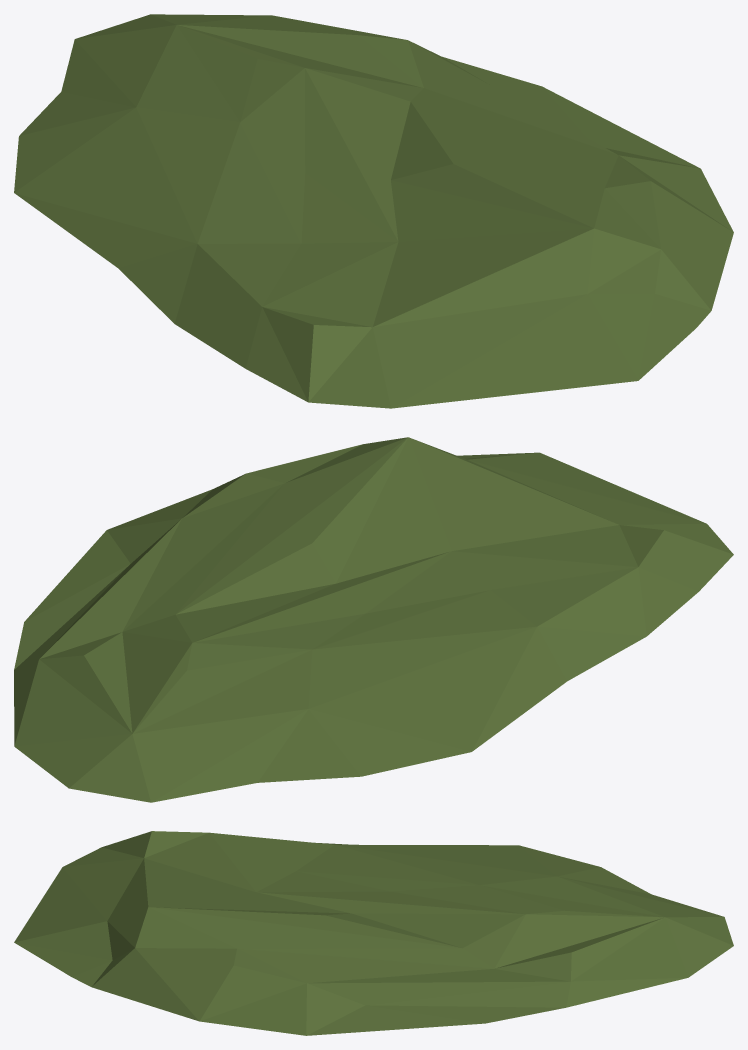
The model's file is SM_Env_GrassPatch_02.glb.
The picture shows the model from 3 angles, top to bottom: view 1: azimuth 30°, elevation 25°; view 2: azimuth 150°, elevation 25°; view 3: azimuth 270°, elevation 25°; orthographic projection. The views are drawn at different scales.
Parts seen in each view (by area): view 1: SM_Env_GrassPatch_02_part00; view 2: SM_Env_GrassPatch_02_part00; view 3: SM_Env_GrassPatch_02_part00.
Part boxes in pixels (x1,y1,x2,y2): SM_Env_GrassPatch_02_part00: [14, 14, 733, 408]; SM_Env_GrassPatch_02_part00: [14, 437, 733, 802]; SM_Env_GrassPatch_02_part00: [14, 831, 733, 1035].
Size of the model in its own units: 1.11 by 0.1396 by 1.73.
Materials: 1 (1 with a texture image).
